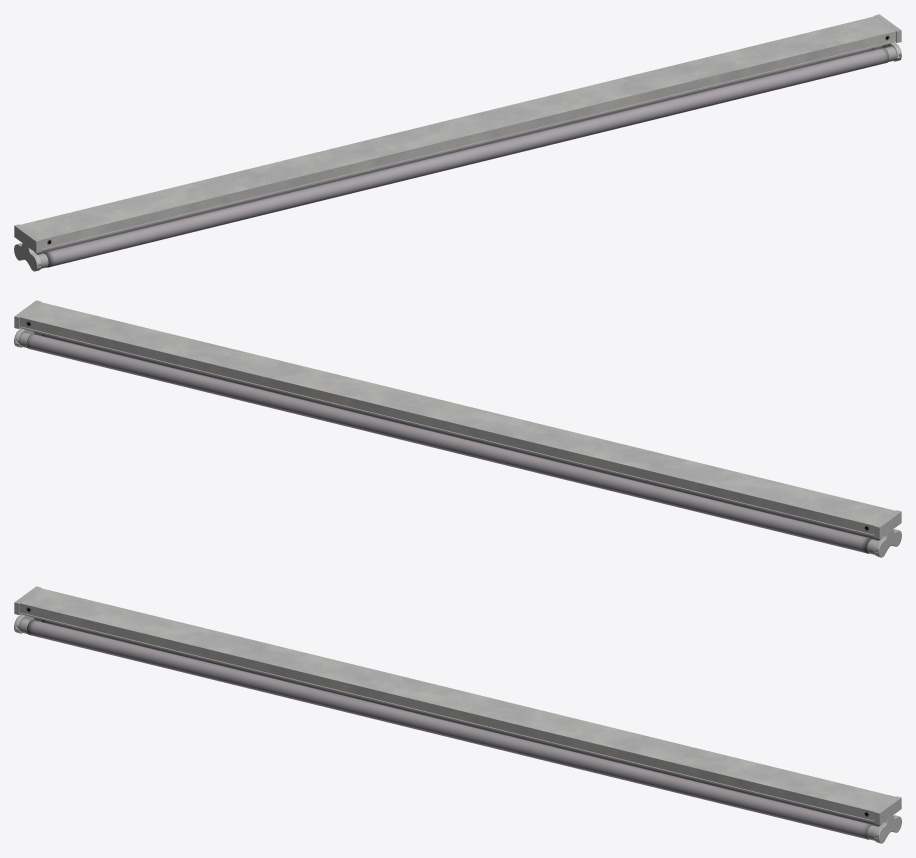
Rendered from fluo_d.gltf.
3 views of the same model, one above another, from view 1: azimuth 30°, elevation 25°; view 2: azimuth 150°, elevation 25°; view 3: azimuth 330°, elevation 25° (orthographic).
Parts seen in each view (by area): view 1: mounted_fluorescent_lights_d; view 2: mounted_fluorescent_lights_d; view 3: mounted_fluorescent_lights_d.
Part boxes in pixels (x1,y1,x2,y2): mounted_fluorescent_lights_d: [14, 14, 901, 271]; mounted_fluorescent_lights_d: [14, 300, 901, 557]; mounted_fluorescent_lights_d: [14, 586, 901, 843].
Size of the model in its own units: 0.9109 by 0.0324 by 0.0422.
